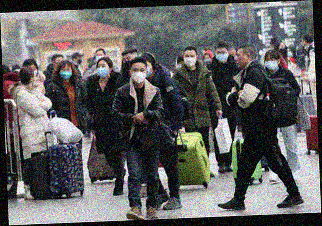with_mask: (130, 66, 148, 83), (121, 55, 136, 71), (95, 63, 110, 78), (58, 65, 73, 79), (264, 56, 279, 70), (183, 52, 197, 67), (215, 49, 229, 63), (95, 51, 106, 62), (278, 43, 288, 55), (32, 75, 39, 89), (30, 66, 39, 76), (75, 55, 82, 64)
without_mask: (235, 50, 247, 69)
